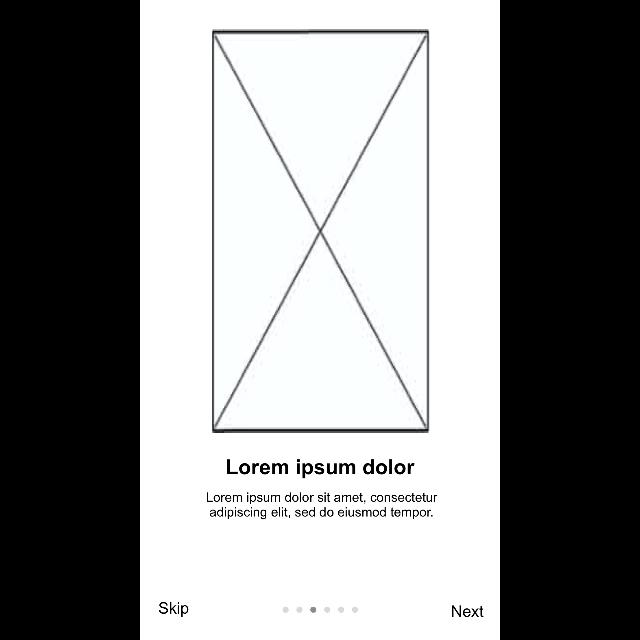image: (212, 29, 430, 433)
pageindicator: (283, 607, 359, 613)
text: (207, 492, 439, 520), (227, 459, 415, 479), (159, 602, 189, 618), (453, 605, 485, 617)
